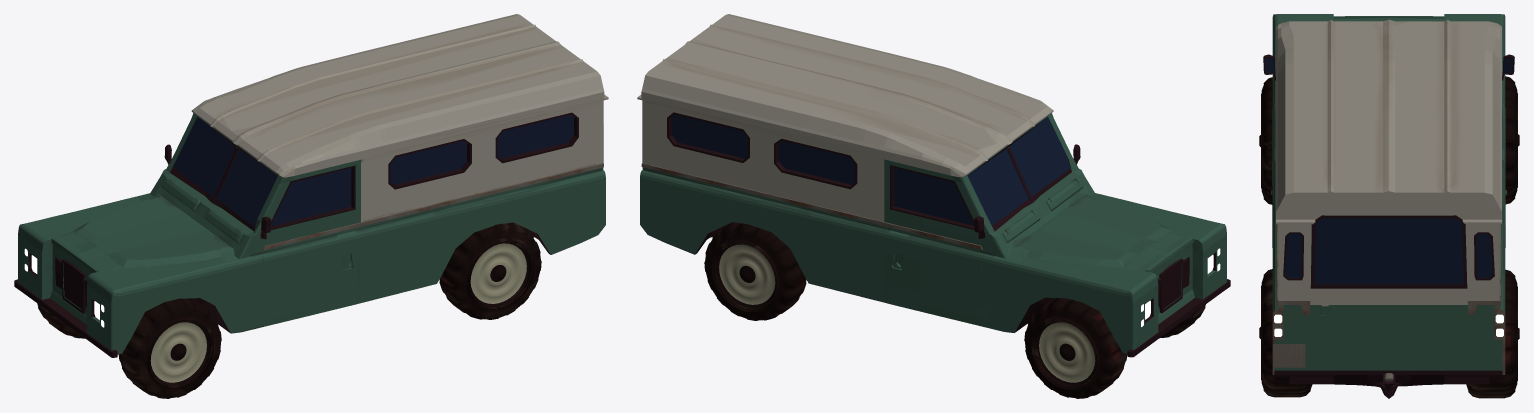
The model's file is jeep.glb.
The picture shows the model from 3 angles, left to right: view 1: azimuth 30°, elevation 25°; view 2: azimuth 150°, elevation 25°; view 3: azimuth 270°, elevation 25°; orthographic projection. The views are drawn at different scales.
Visible parts, largest first — view 1: Cylinder_2; view 2: Cylinder_2; view 3: Cylinder_2.
Part boxes in pixels (left/top/right/bottom): Cylinder_2: left=14, top=14, right=608, bottom=398; Cylinder_2: left=637, top=14, right=1230, bottom=398; Cylinder_2: left=1259, top=14, right=1519, bottom=398.
Size of the model in its own units: 4.79 by 1.95 by 1.71.
Materials: 9 (6 with a texture image).
